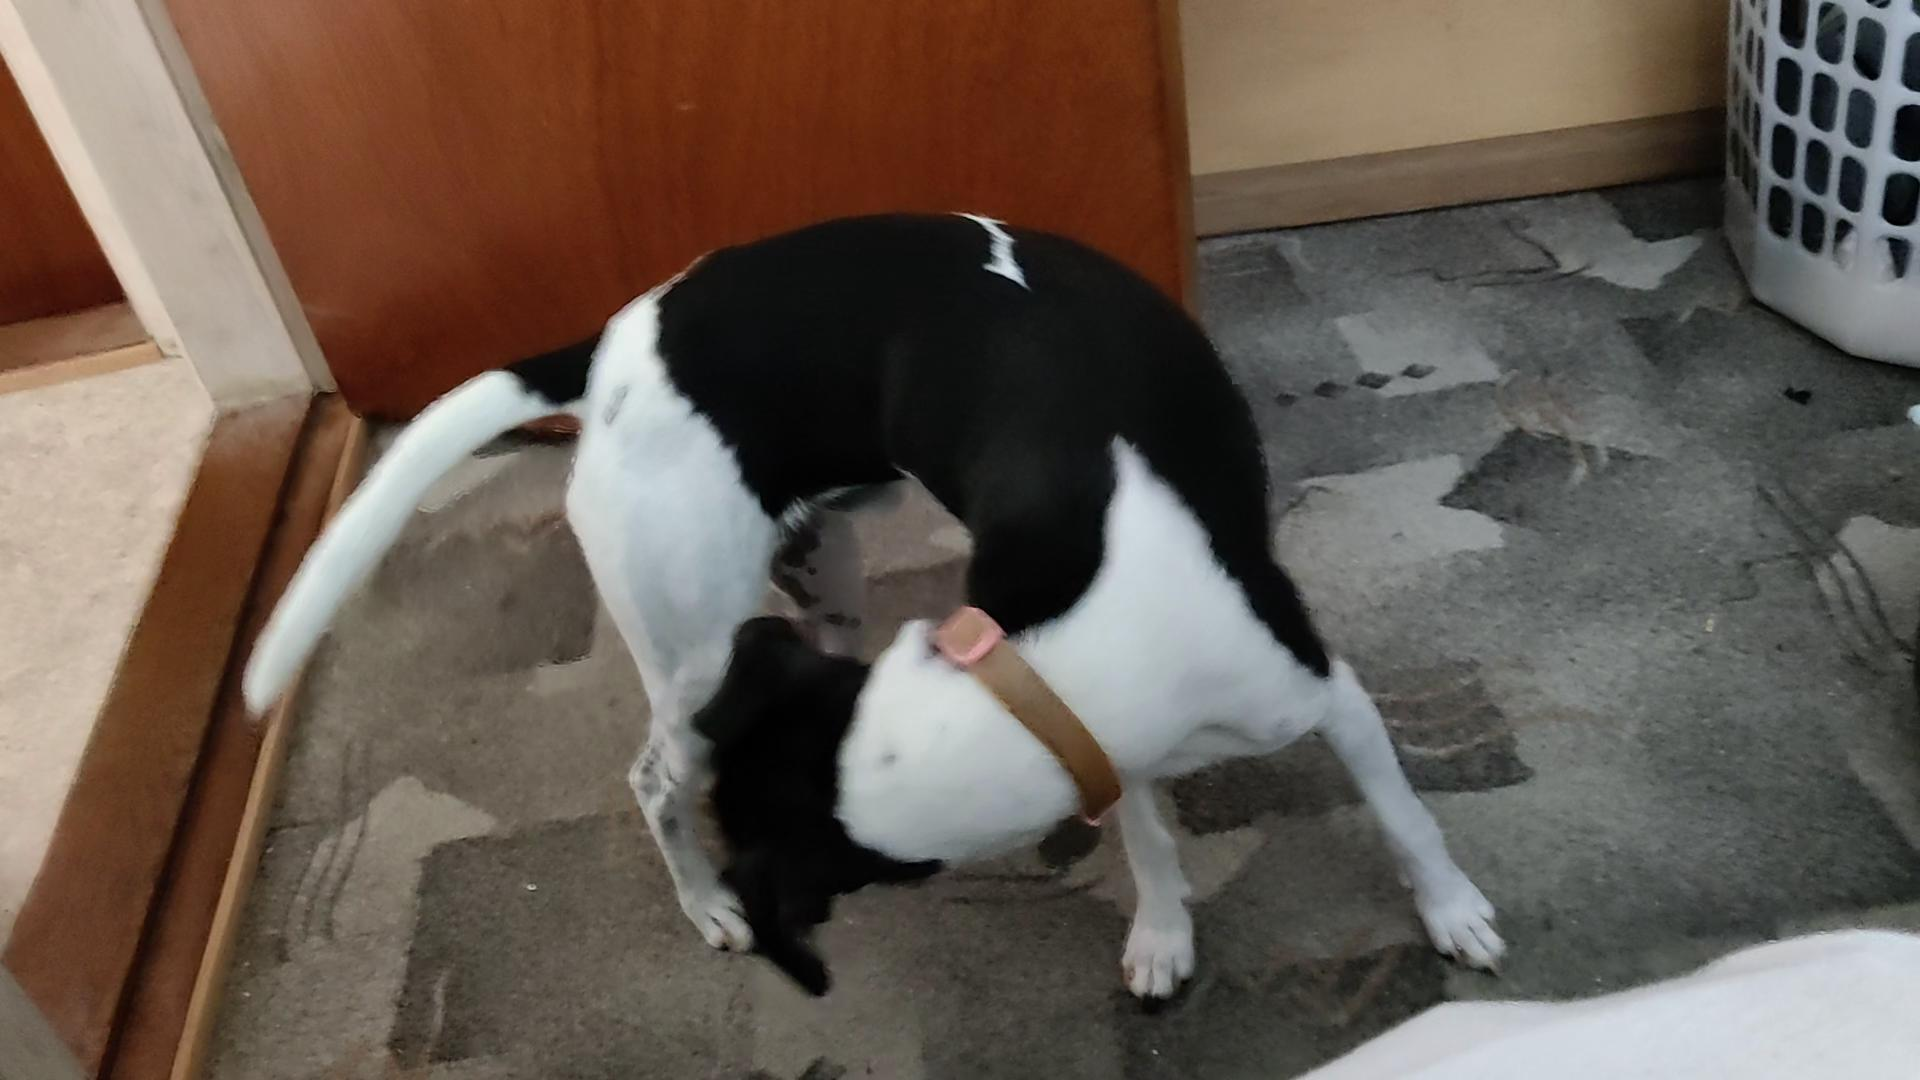Dog: (207, 191, 1527, 1022)
